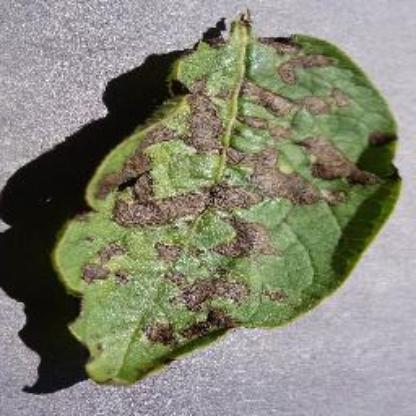Early-Blight: (52, 6, 402, 388)
